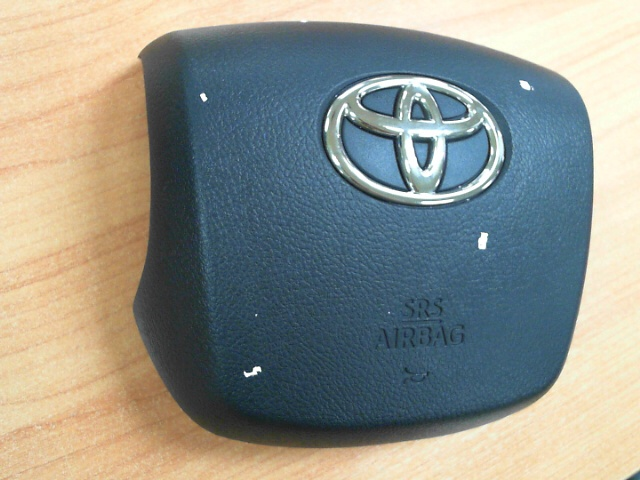Airbag: (243, 365, 263, 378), (518, 79, 536, 92), (477, 231, 488, 251), (199, 92, 209, 104)
